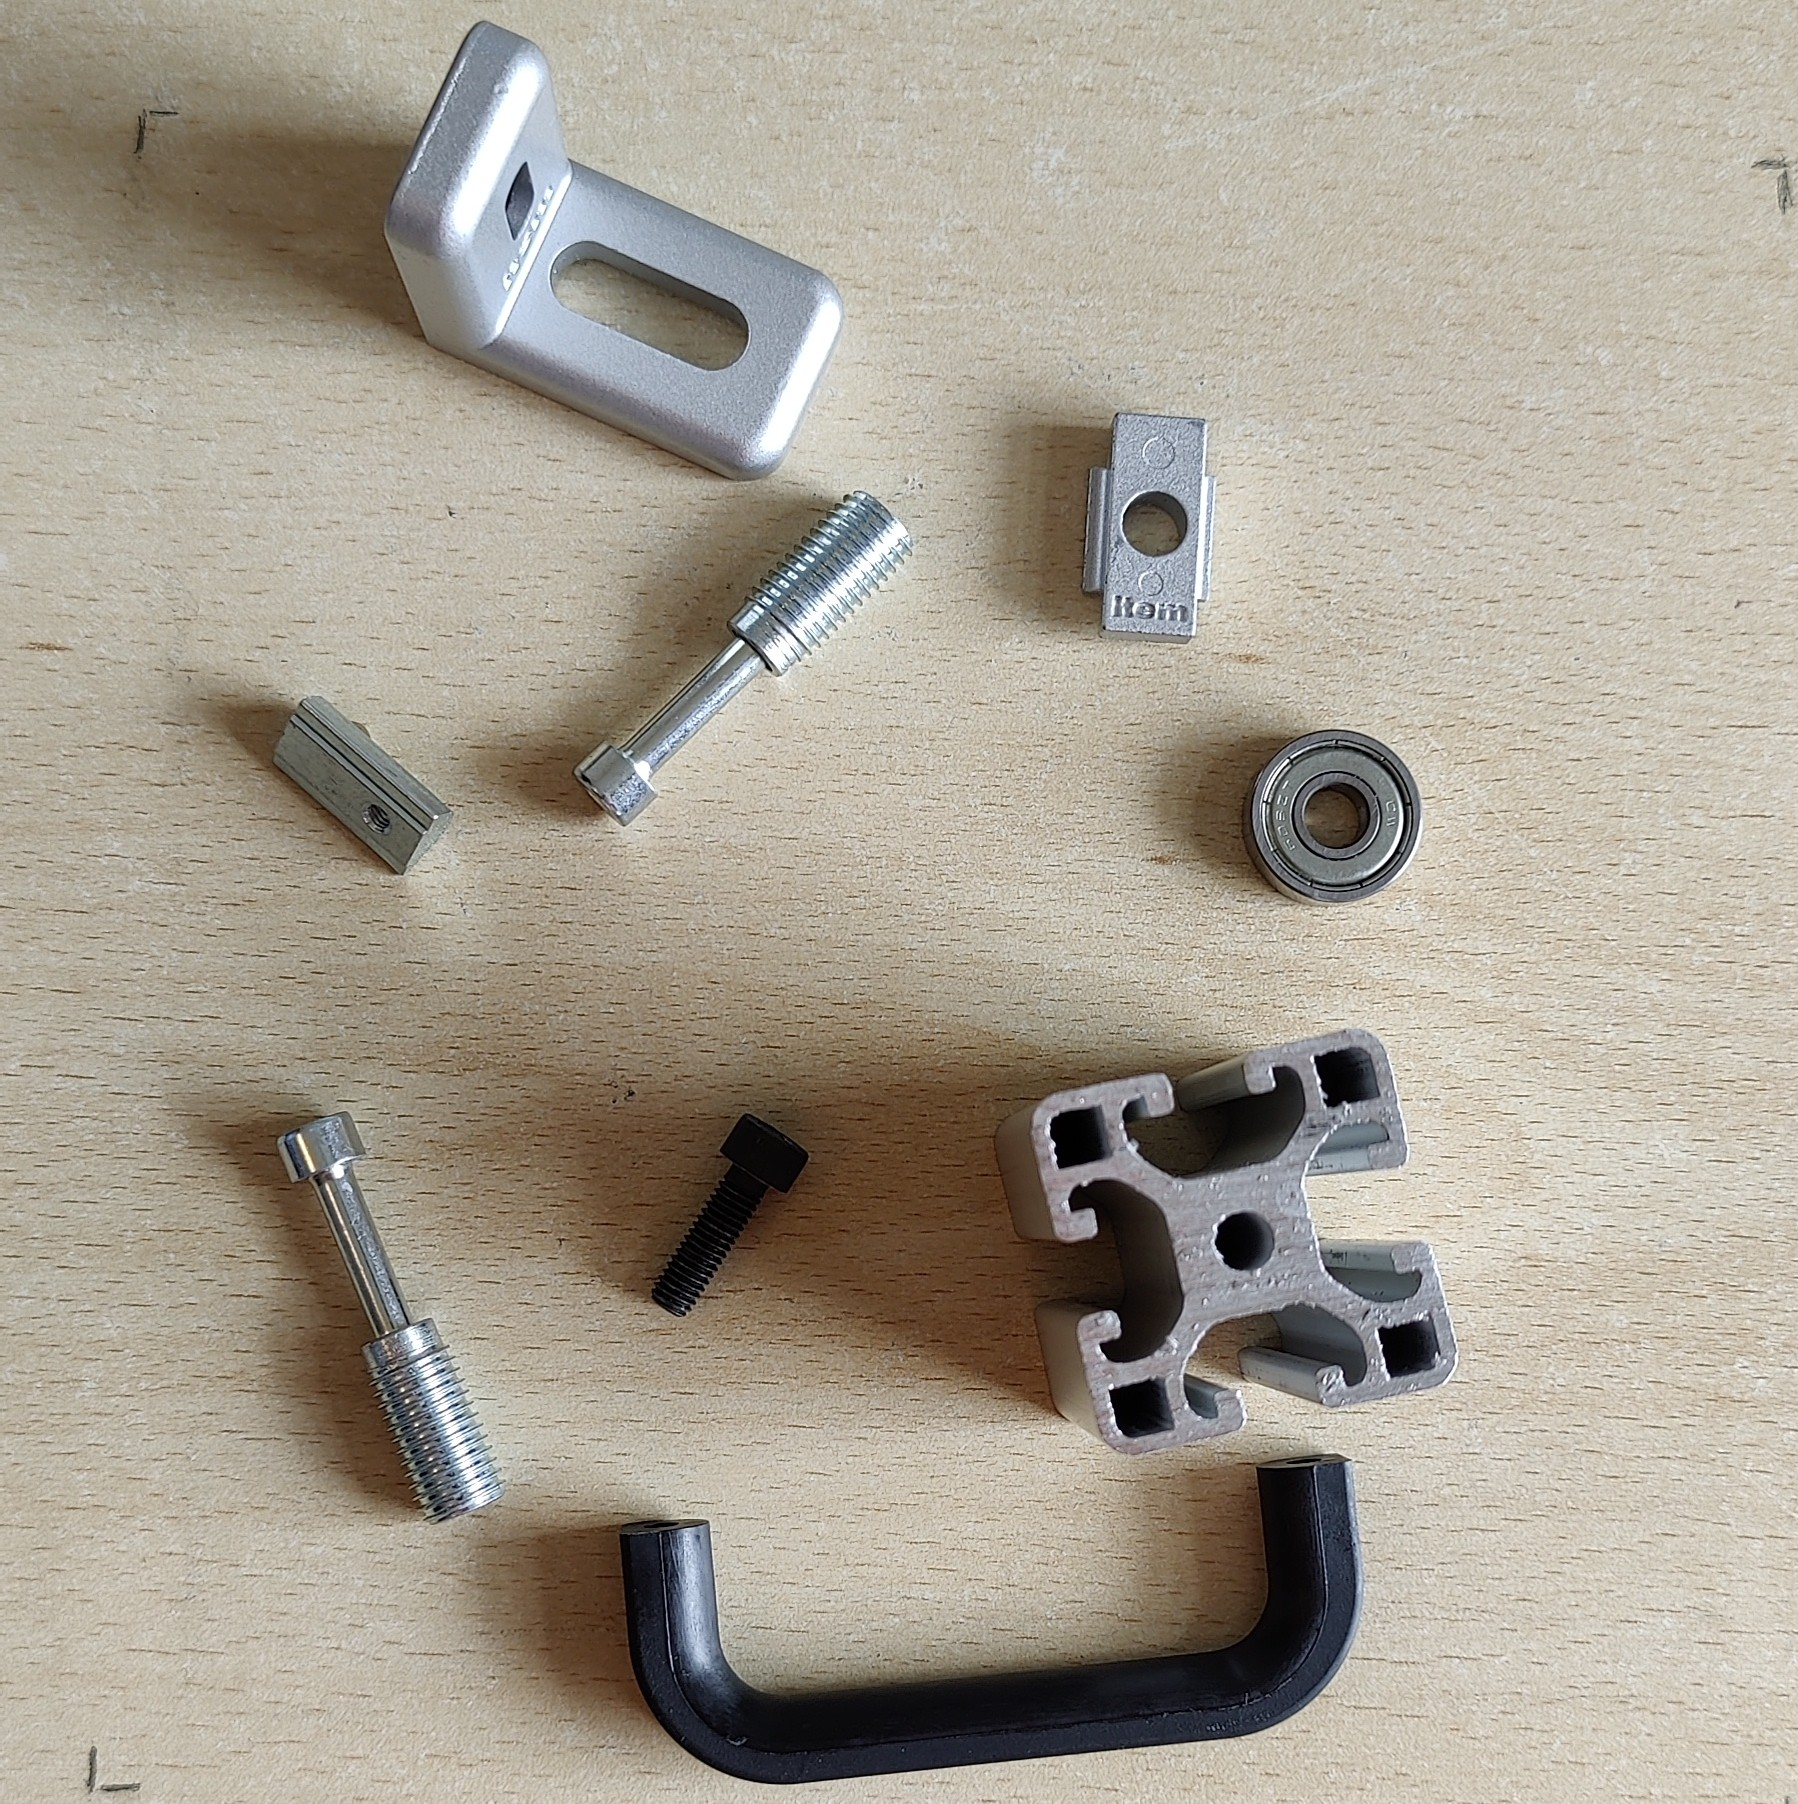Aluminium Extension: (991, 1025, 1459, 1457)
Ball Bearing: (1241, 728, 1424, 910)
Multiwinkel: (380, 16, 848, 484)
Pull Handle: (616, 1452, 1367, 1789)
Shoulder Socket Head Cap Screw: (570, 486, 917, 830), (277, 1108, 510, 1527)
Socket Head Cap Screw: (649, 1108, 813, 1322)
T Nut Square: (1078, 405, 1218, 647)
T Spring Nut: (265, 691, 456, 877)
